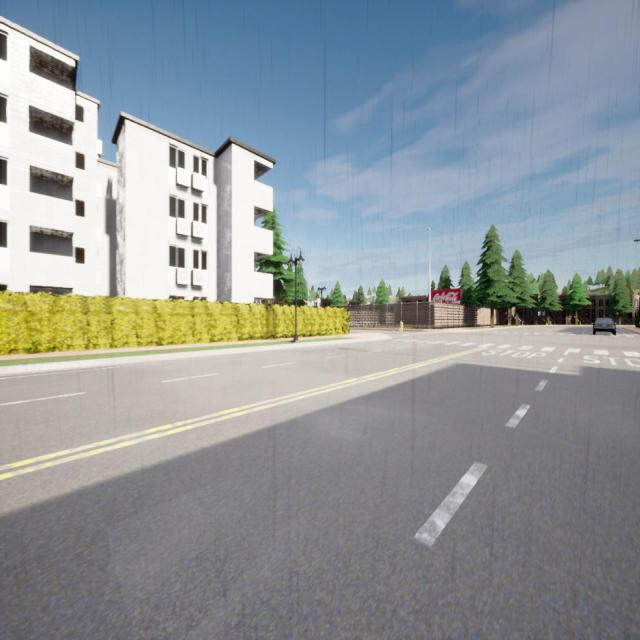Pedestrian: (400, 321, 403, 333)
Vehicle: (593, 317, 615, 334)
